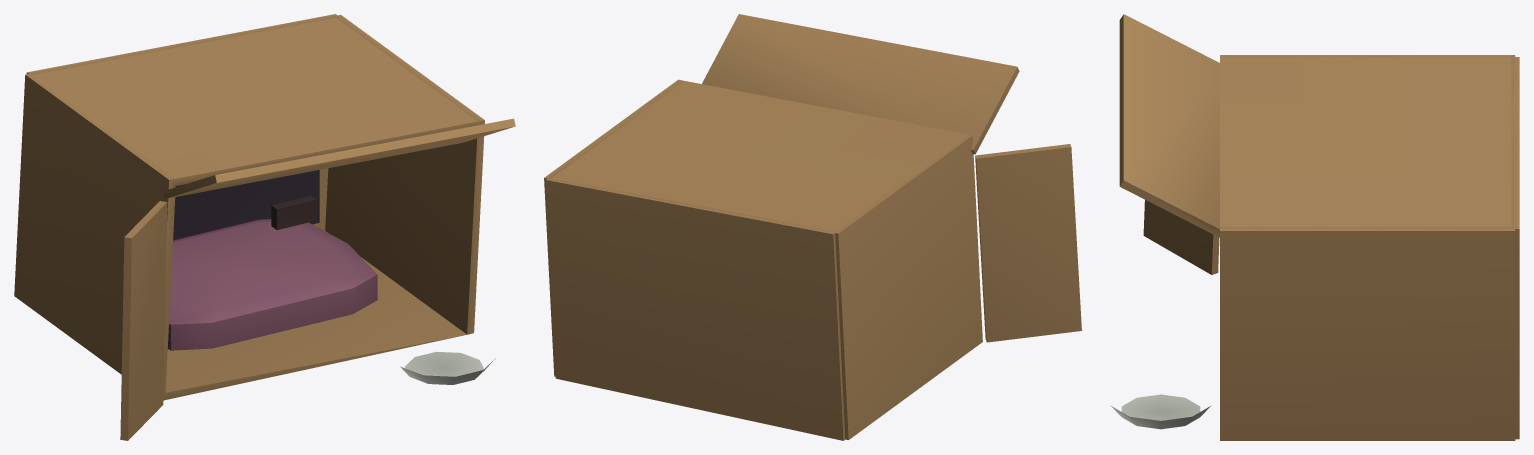
Rendered from den_stray_cat.glb.
3 views of the same model, side by side, from view 1: azimuth 30°, elevation 25°; view 2: azimuth 150°, elevation 25°; view 3: azimuth 270°, elevation 25° (orthographic). The views are drawn at different scales.
Visible parts, largest first — view 1: den_stray_cat, opening; view 2: den_stray_cat; view 3: den_stray_cat.
Part boxes in pixels (box(x1,y1,x2,y2)): den_stray_cat: box(14, 14, 515, 440); opening: box(173, 170, 319, 240); den_stray_cat: box(544, 14, 1081, 440); den_stray_cat: box(1110, 14, 1519, 440).
Bounding box in the file's own units: 0.7995 × 0.5117 × 0.6926.
